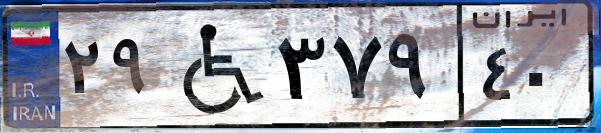0: (525, 38, 570, 115)
2: (57, 26, 110, 100)
3: (270, 28, 330, 110)
4: (475, 38, 525, 113)
7: (330, 28, 385, 110)
9: (385, 28, 445, 110), (110, 28, 158, 98)
ژ (معلولین و جانبازان): (158, 12, 270, 120)
